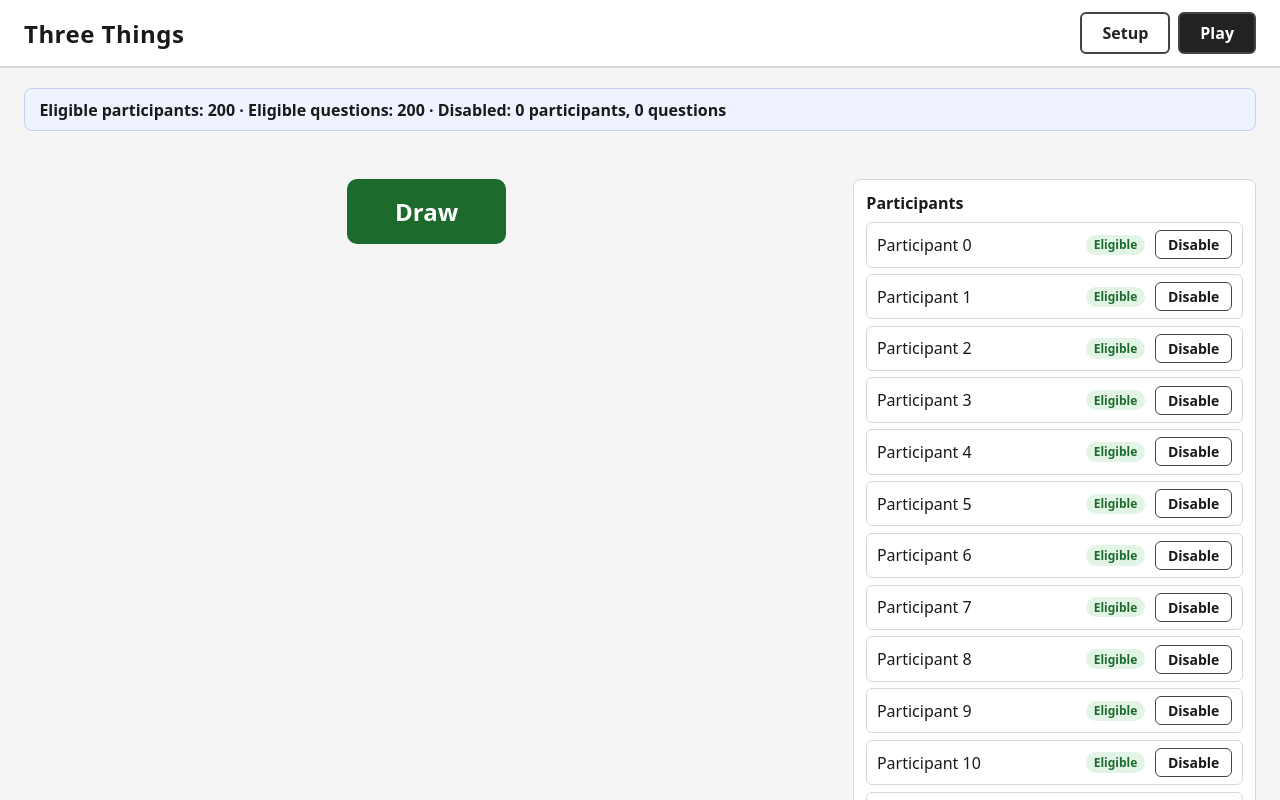
Scenario: performance with 200 participants and 200 questions (SC-006) › reveals the round within one second and never cycles placeholder text when the animation time is 0 (SC-001)
This screenshot has width=1280, height=800.
What coordinates should you click on to do the following:
click the button "Draw"
I would click on:
 (427, 212)
Its box is [347,179,506,244].
Wait 1000 ms
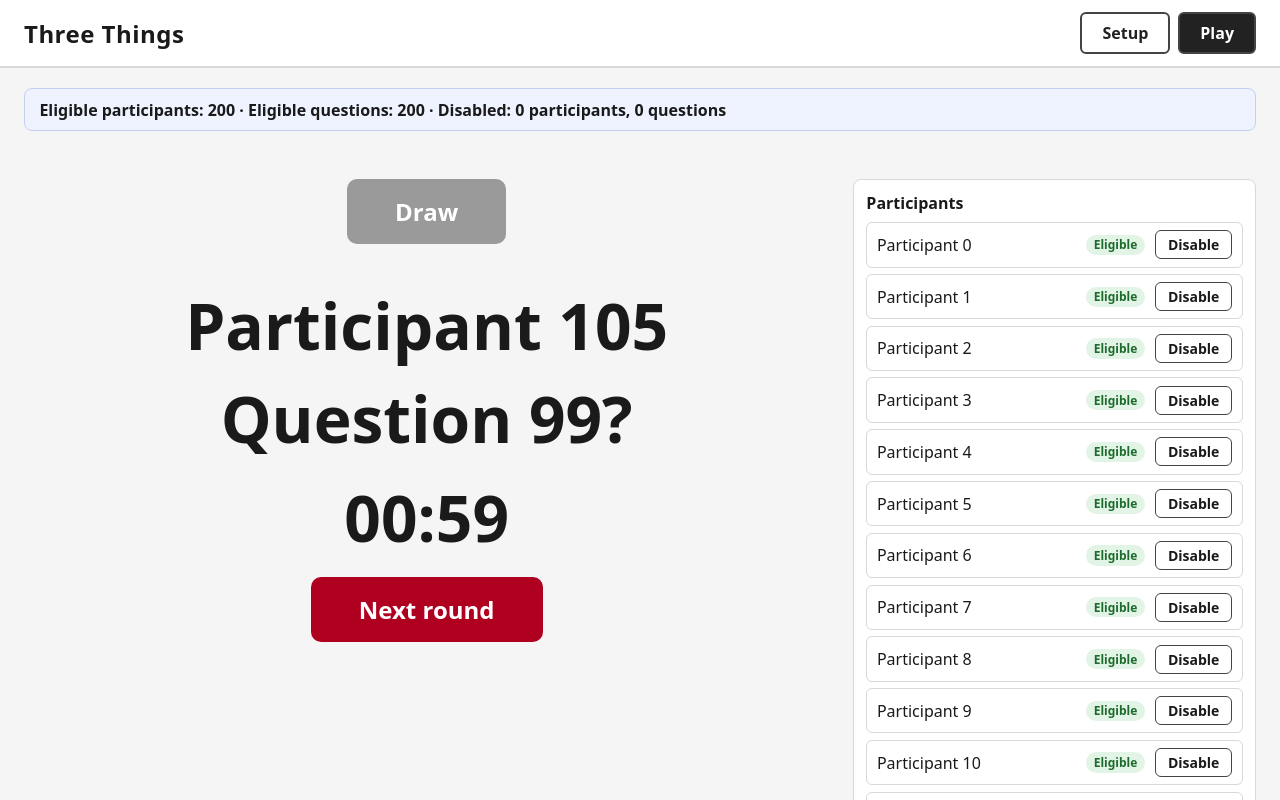
Check: the element named "Current round" is shown, box [161,264,692,666]
